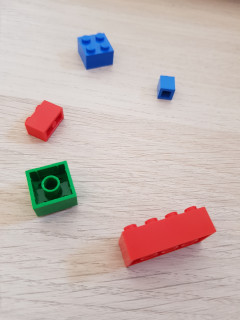1x1 blue: (154, 74, 176, 101)
1x2 red: (24, 99, 65, 141)
2x2 blue: (76, 32, 116, 68)
2x2 green: (26, 160, 79, 217)
2x4 red: (117, 206, 218, 269)
